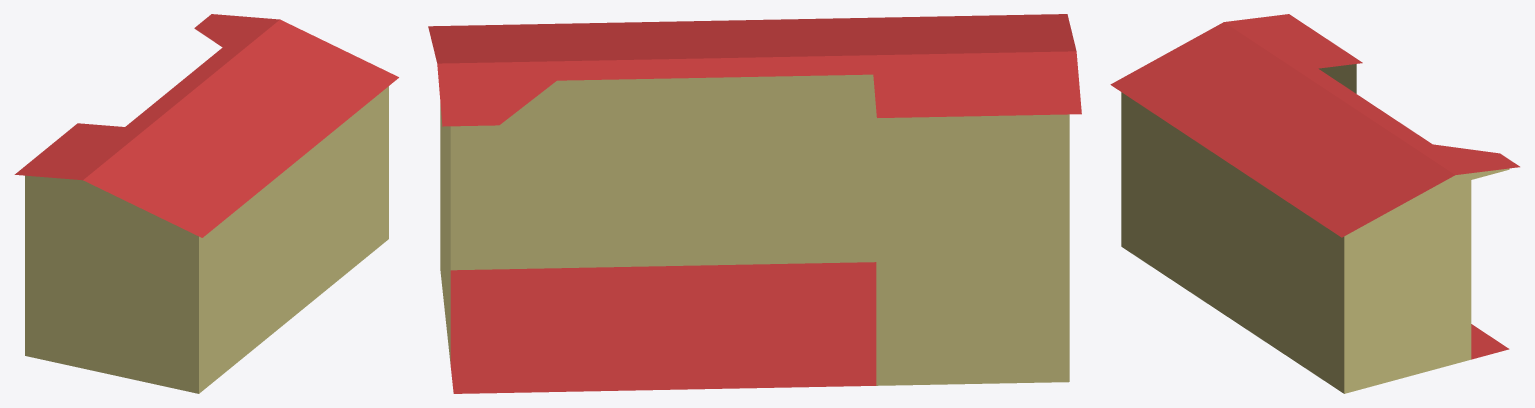
3 views of the same model, side by side, from view 1: azimuth 30°, elevation 25°; view 2: azimuth 150°, elevation 25°; view 3: azimuth 270°, elevation 25° (orthographic). The views are drawn at different scales.
Size of the model in its own units: 15 by 12.92 by 6.69.
